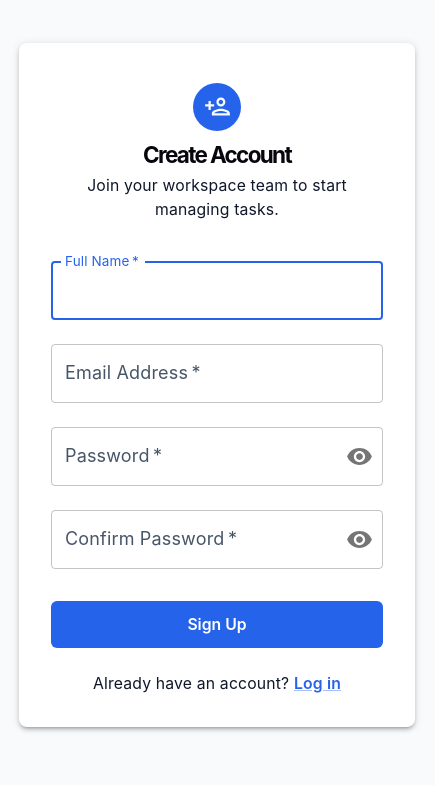
RegisterPage Component › validates required fields on empty form submission
This screenshot has width=435, height=785.
What coordinates should you click on to do the following:
click the button "Sign Up"
I would click on:
 (217, 624)
Its box is [51,601,383,648].
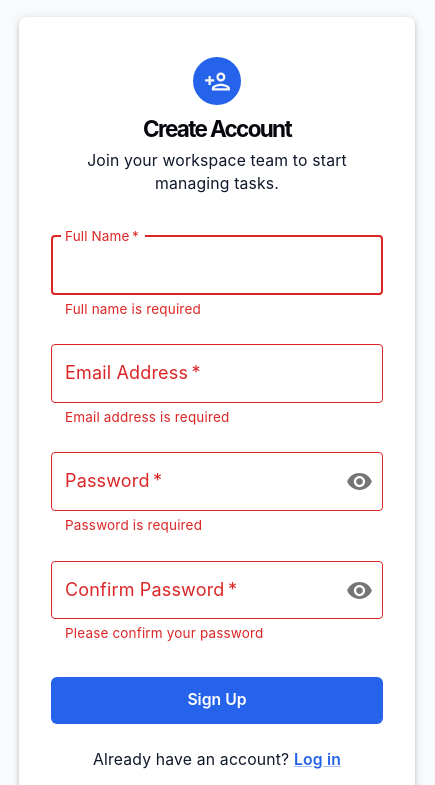
Expected: the text "Full name is required" is shown, [65,301,201,317]
Expected: the text "Email address is required" is shown, [65,409,229,425]
Expected: the text "Password is required" is shown, [65,517,202,533]
